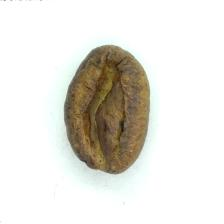NG: (78, 59, 140, 162)
